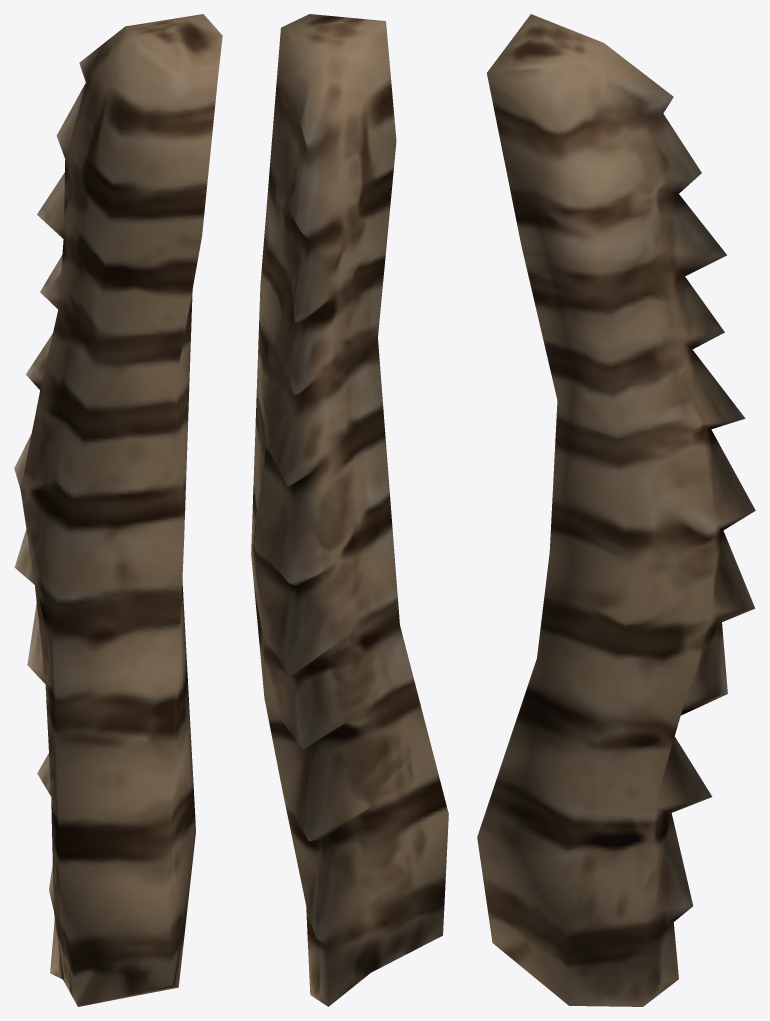
The model's file is MEP_Spine.fbx.
3 views of the same model, side by side, from view 1: azimuth 30°, elevation 25°; view 2: azimuth 150°, elevation 25°; view 3: azimuth 270°, elevation 25° (orthographic). The views are drawn at different scales.
Parts seen in each view (by area): view 1: MEP_Spine; view 2: MEP_Spine; view 3: MEP_Spine.
Boxes of the visible parts, left/top/right/bottom form: MEP_Spine: left=14, top=14, right=222, bottom=1006; MEP_Spine: left=251, top=14, right=448, bottom=1006; MEP_Spine: left=477, top=14, right=755, bottom=1006.
Bounding box in the file's own units: 0.347 × 1.98 × 0.5095.
